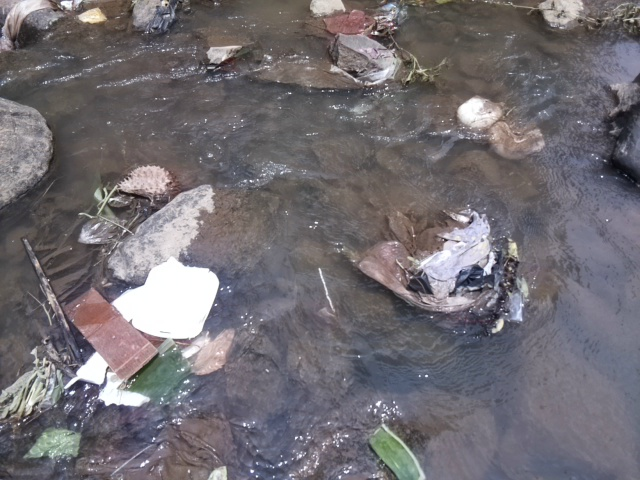Sampah_Plastik: (335, 199, 538, 337), (320, 5, 381, 39)
Sampah_Styrofoam: (108, 259, 228, 337)
